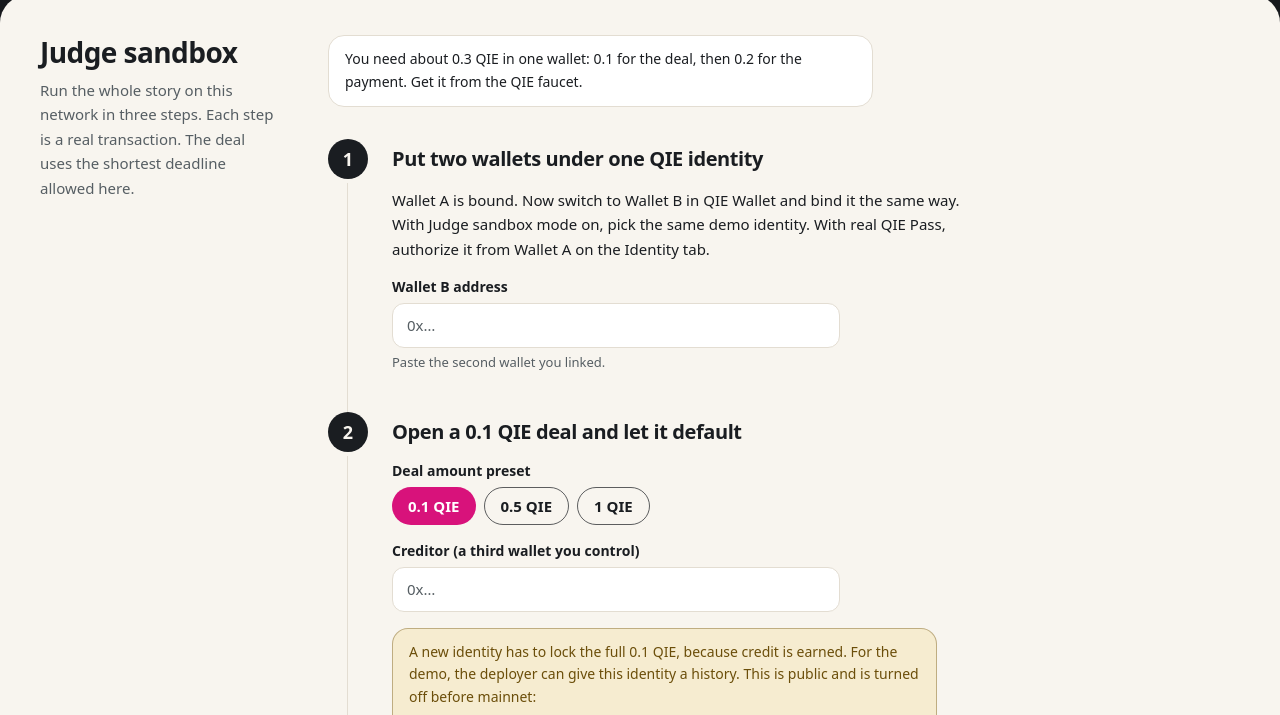
Test case: JudgeSandbox presets › renders three preset buttons defaulting to 0.1 QIE with no free-text amount box
Check: the button "0.1 QIE" is shown, box x1=392 y1=487 x2=476 y2=525
Check: the button "1 QIE" is shown, box x1=577 y1=487 x2=650 y2=525
# Clicking 0.5 QIE updates deal and payment title
Click the button "0.5 QIE": coordinates (526, 506) x1=484 y1=487 x2=569 y2=525
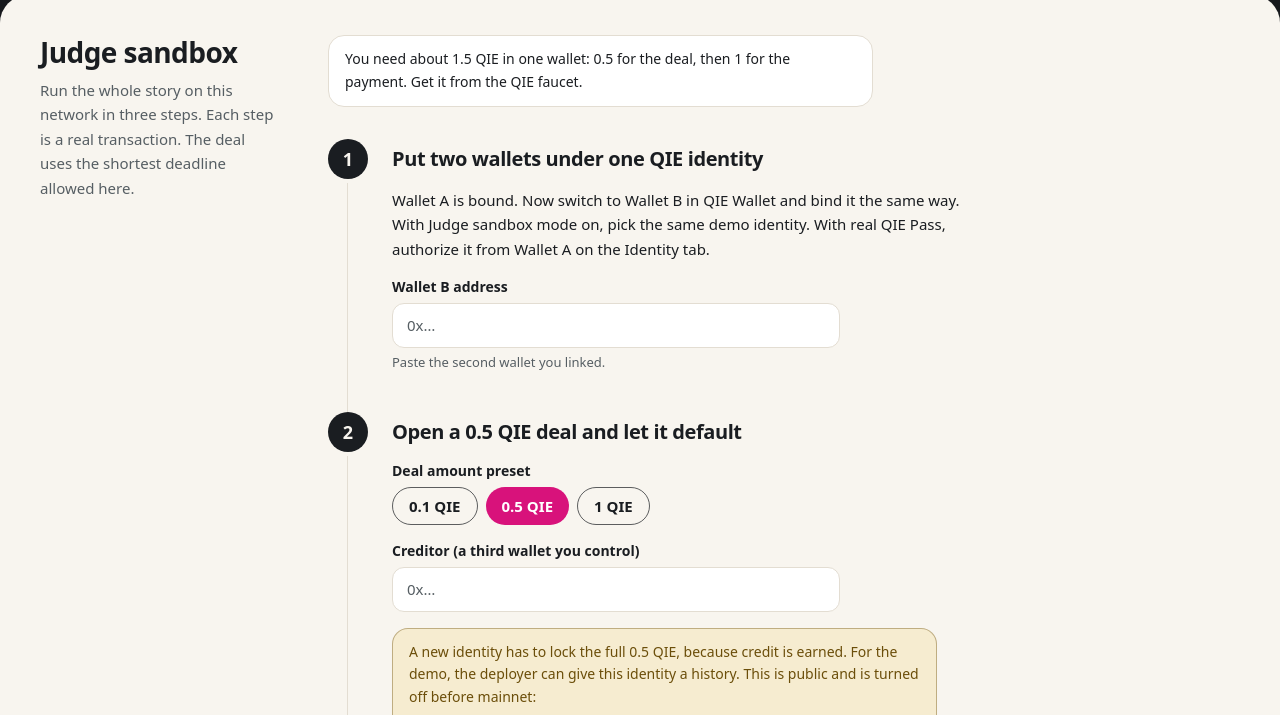
Check: the heading "Open a 0.5 QIE deal and let it default" is shown, box x1=392 y1=418 x2=742 y2=444
# Clicking 1 QIE updates deal
Click the button "1 QIE": coordinates (613, 506) x1=577 y1=487 x2=650 y2=525
(page scrolled)
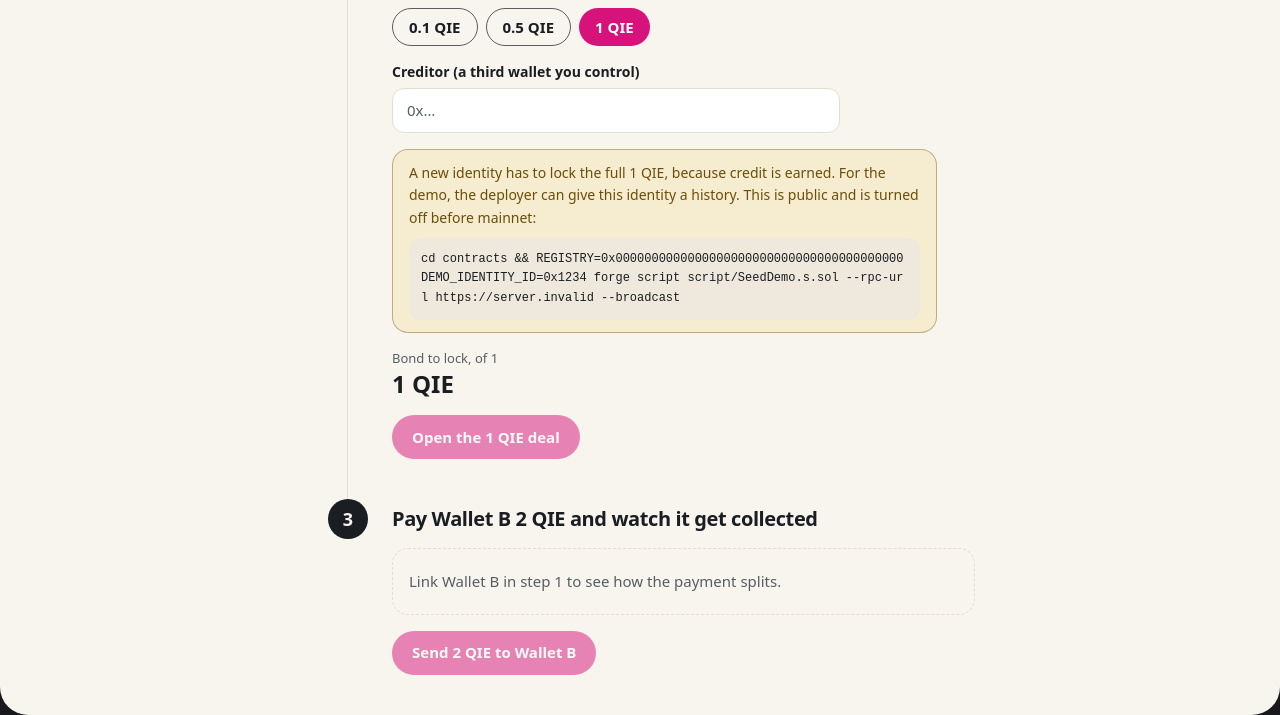
Check: the button "Open the 1 QIE deal" is shown, box x1=392 y1=415 x2=580 y2=459
